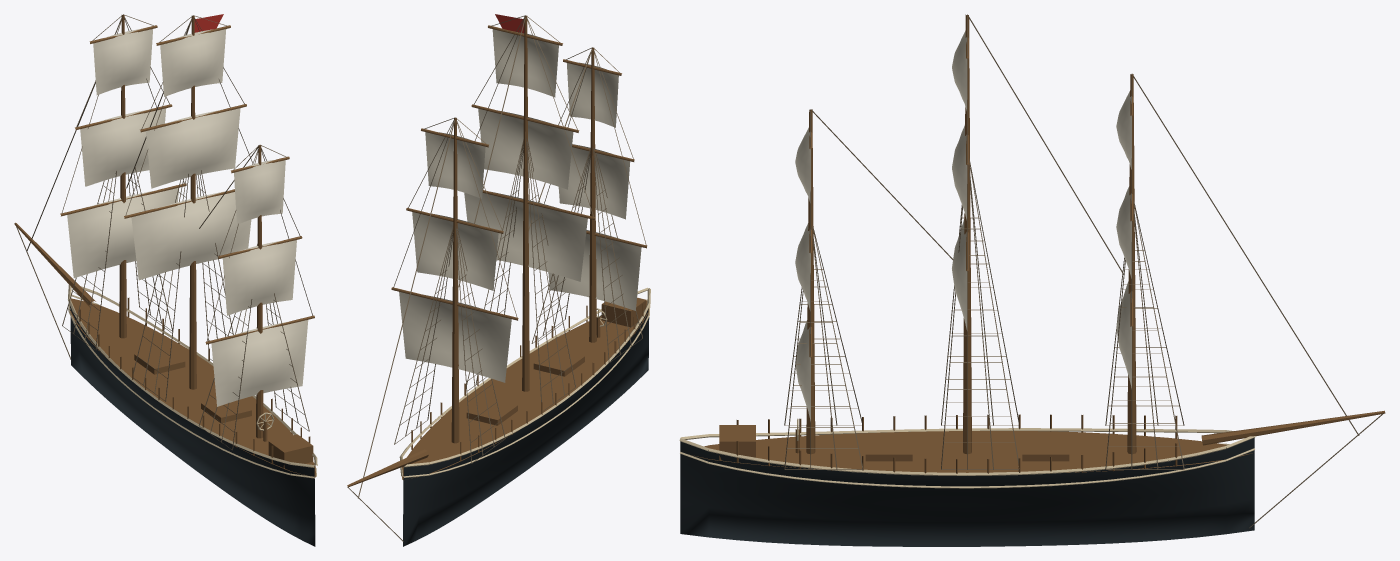
The model's file is clipper-high.glb.
3 renders of one model, left to right at view 1: azimuth 30°, elevation 25°; view 2: azimuth 150°, elevation 25°; view 3: azimuth 270°, elevation 25°, orthographic. The views are drawn at different scales.
Parts seen in each view (by area): view 1: tarred-hull, timber-deck, canvas-1-2, rope-rigging, canvas-2-2, timber-spars, canvas-1-1, canvas-0-2, canvas-2-1, canvas-0-1, canvas-1-0, canvas-0-0 (+6 smaller); view 2: tarred-hull, rope-rigging, timber-deck, canvas-0-2, canvas-1-2, timber-spars, canvas-1-1, canvas-0-1, canvas-2-2, canvas-2-1, canvas-1-0, canvas-0-0 (+7 smaller); view 3: tarred-hull, timber-deck, rope-rigging, timber-spars, painted-wale, mast-1, mast-0, mast-2, deckhouse, canvas-1-2, canvas-0-2, canvas-2-2 (+3 smaller).
Boxes of the visible parts, box(x1,y1,x2,y2) form: tarred-hull: box(70, 306, 315, 546); timber-deck: box(70, 298, 315, 477); canvas-1-2: box(131, 190, 251, 280); rope-rigging: box(16, 14, 312, 450); canvas-2-2: box(211, 320, 308, 406); timber-spars: box(14, 25, 314, 464); canvas-1-1: box(146, 108, 240, 188); canvas-0-2: box(67, 188, 179, 277); canvas-2-1: box(222, 240, 296, 315); canvas-0-1: box(80, 108, 166, 186); canvas-1-0: box(160, 29, 226, 96); canvas-0-0: box(93, 28, 152, 95); tarred-hull: box(403, 308, 649, 546); rope-rigging: box(347, 15, 646, 541); timber-deck: box(402, 300, 648, 479); canvas-0-2: box(399, 291, 511, 382); canvas-1-2: box(464, 191, 587, 281); timber-spars: box(347, 25, 647, 487); canvas-1-1: box(478, 108, 573, 189); canvas-0-1: box(412, 212, 498, 290); canvas-2-2: box(548, 230, 641, 310); canvas-2-1: box(558, 144, 630, 219); canvas-1-0: box(492, 29, 558, 97); canvas-0-0: box(425, 132, 485, 198); tarred-hull: box(680, 438, 1254, 546); timber-deck: box(689, 431, 1252, 472); rope-rigging: box(784, 14, 1383, 528); timber-spars: box(736, 37, 1385, 473); painted-wale: box(679, 418, 1255, 488); mast-1: box(963, 14, 971, 453); mast-0: box(1127, 74, 1136, 454); mast-2: box(806, 109, 815, 454); deckhouse: box(719, 425, 755, 460); canvas-1-2: box(952, 219, 967, 330); canvas-0-2: box(1116, 281, 1131, 388); canvas-2-2: box(796, 320, 810, 421).
Size of the model in its own units: 7.21 by 22.51 by 27.05.
